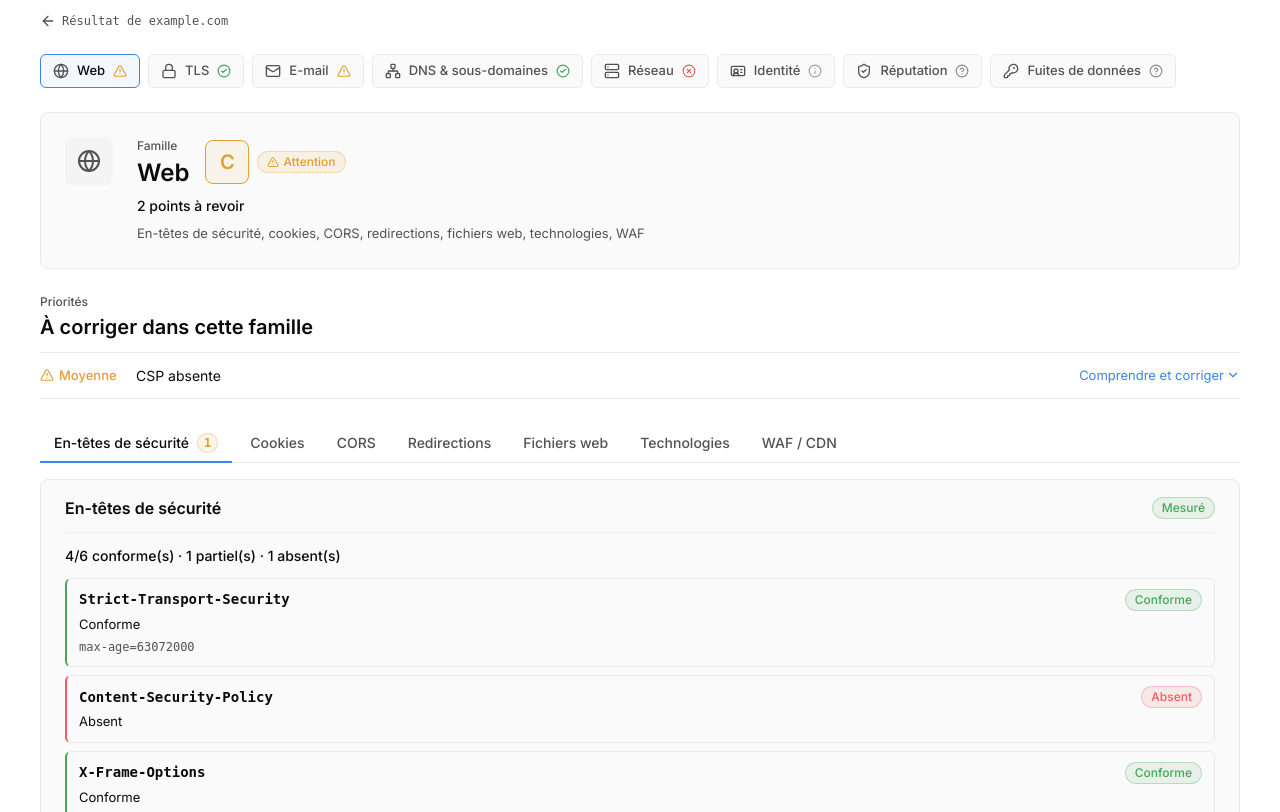
Test: onglets des modules › cliquer un onglet change de module et remplace l'adresse (lien profond)
Click the tab "CORS" at (356, 443), box [323,423,390,463]
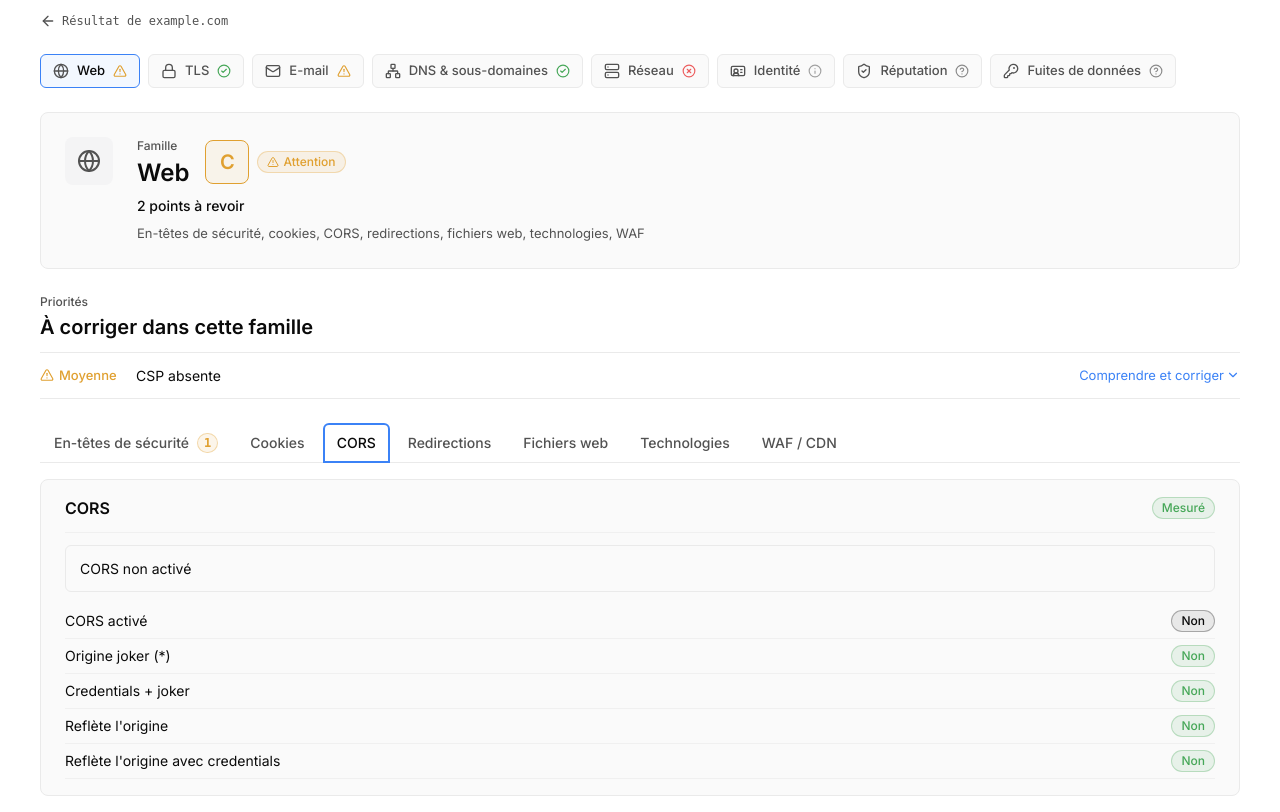
Expected: the heading "Web" is shown, [137,158,190,187]
Expected: the element "CORS" is shown, [40,479,1240,796]
